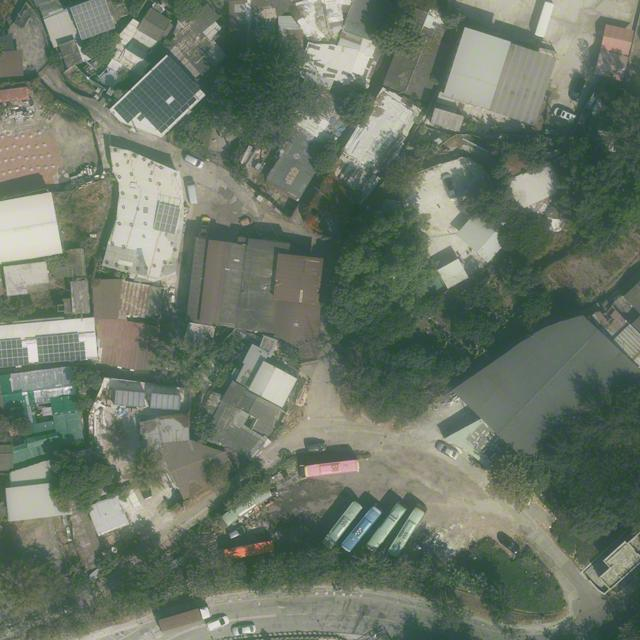SolarPanel: (113, 55, 201, 134), (70, 0, 115, 40), (37, 333, 86, 363), (0, 338, 29, 368)
